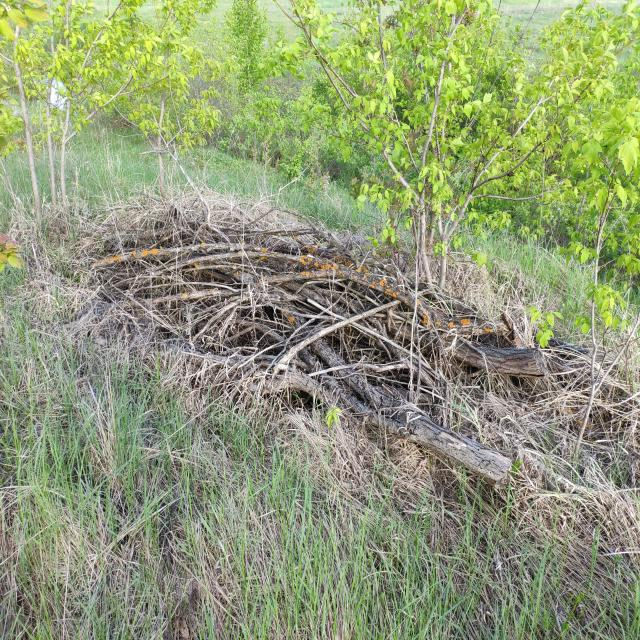restos de madeira: (259, 300, 396, 379), (389, 311, 469, 432), (282, 257, 416, 310), (392, 412, 489, 483), (317, 347, 396, 427), (172, 219, 315, 253), (140, 246, 275, 281), (99, 242, 179, 288), (457, 339, 547, 378), (134, 282, 240, 312), (540, 337, 617, 375), (368, 407, 429, 450), (191, 301, 241, 348), (573, 384, 596, 463), (499, 312, 520, 344)
